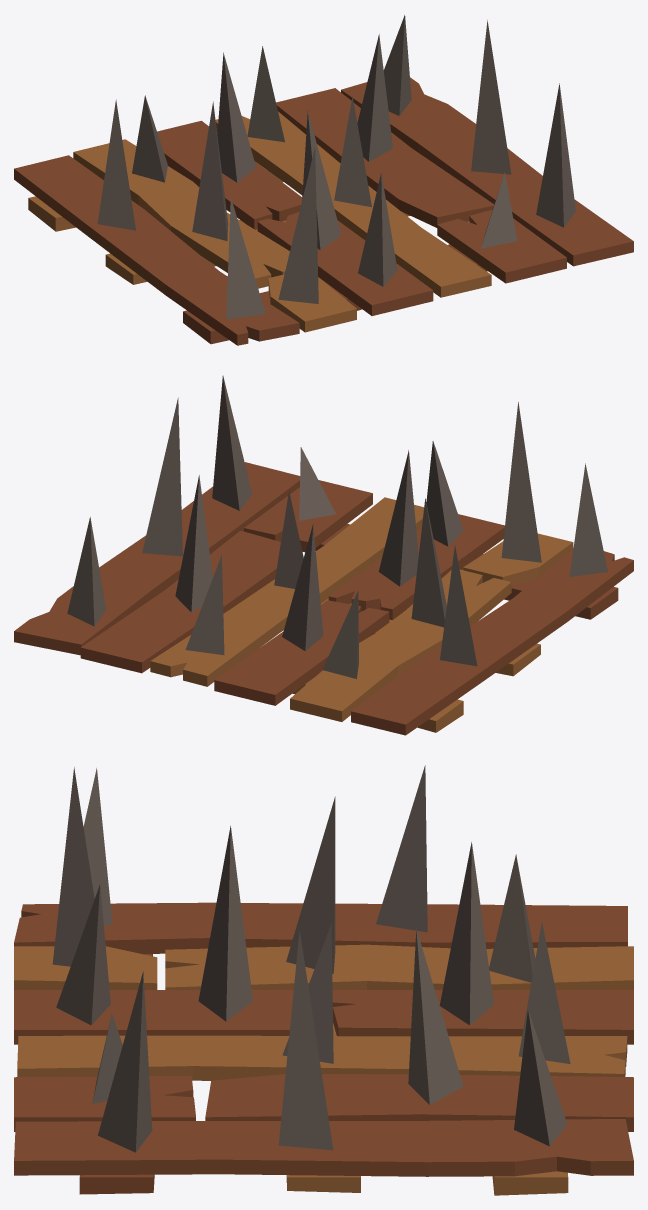
The model's file is LP_PostApoc_SpikeTrap.fbx.
The picture shows the model from 3 angles, top to bottom: view 1: azimuth 30°, elevation 25°; view 2: azimuth 150°, elevation 25°; view 3: azimuth 270°, elevation 25°; orthographic projection. The views are drawn at different scales.
Parts seen in each view (by area): view 1: SpikeTrap; view 2: SpikeTrap; view 3: SpikeTrap.
Boxes of the visible parts, bbox=[...] form: SpikeTrap: bbox=[14, 15, 633, 345]; SpikeTrap: bbox=[14, 375, 633, 735]; SpikeTrap: bbox=[14, 765, 633, 1195].
Size of the model in its own units: 200 by 86.5 by 200.
